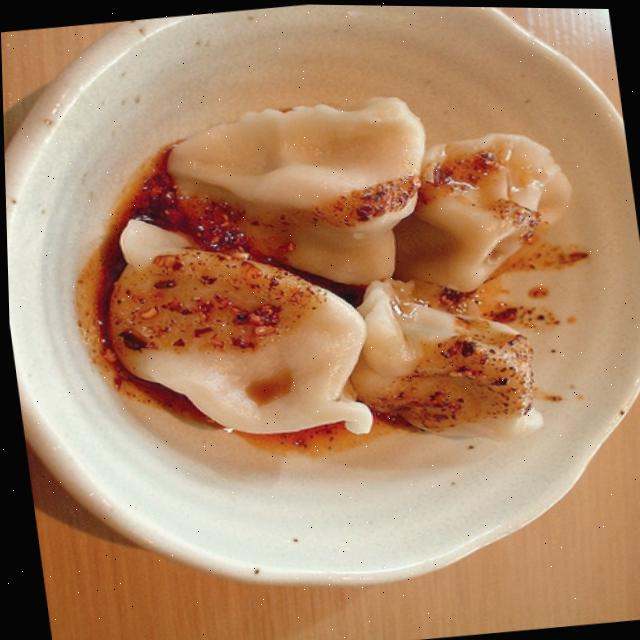带馅早点: (47, 1, 640, 560)
